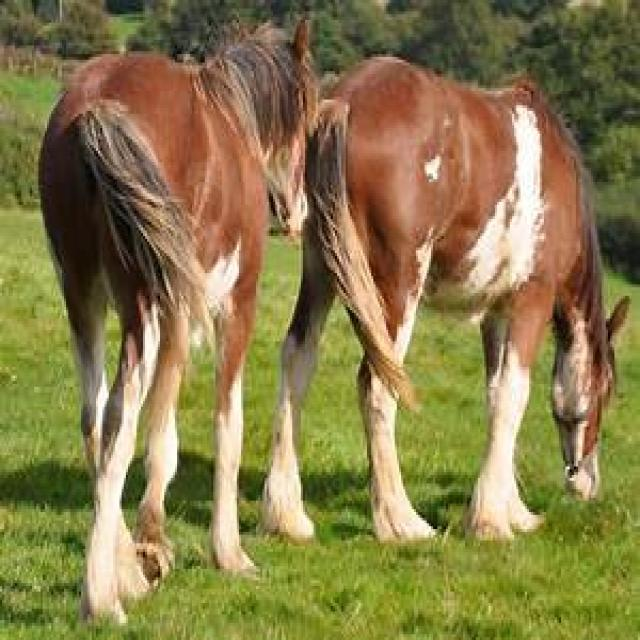horse: (262, 57, 627, 546), (41, 26, 320, 626)
